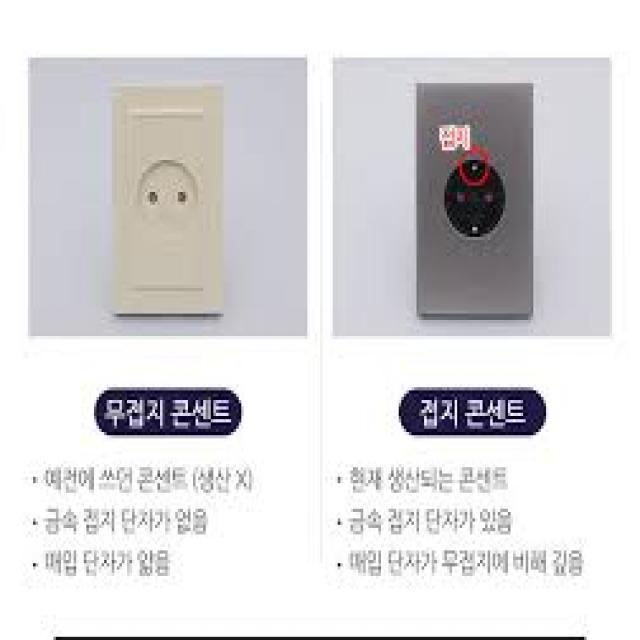typeb: (401, 67, 558, 346), (97, 69, 250, 332)
